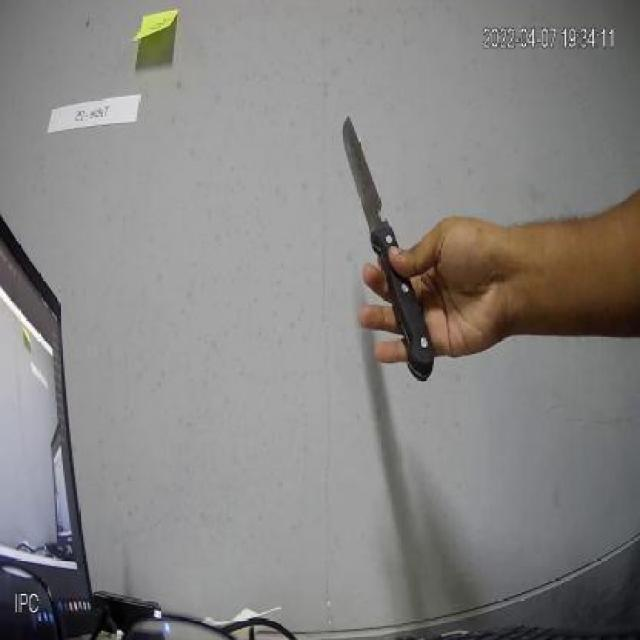-: (340, 115, 437, 383)
